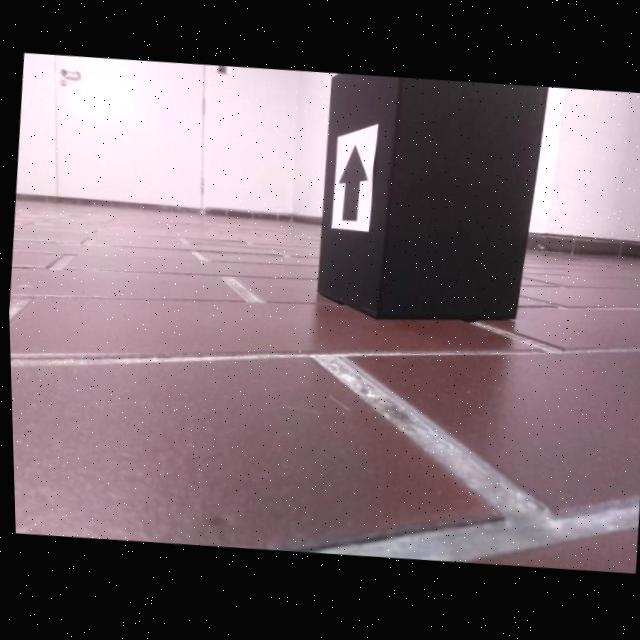UP: (336, 145, 367, 223)
